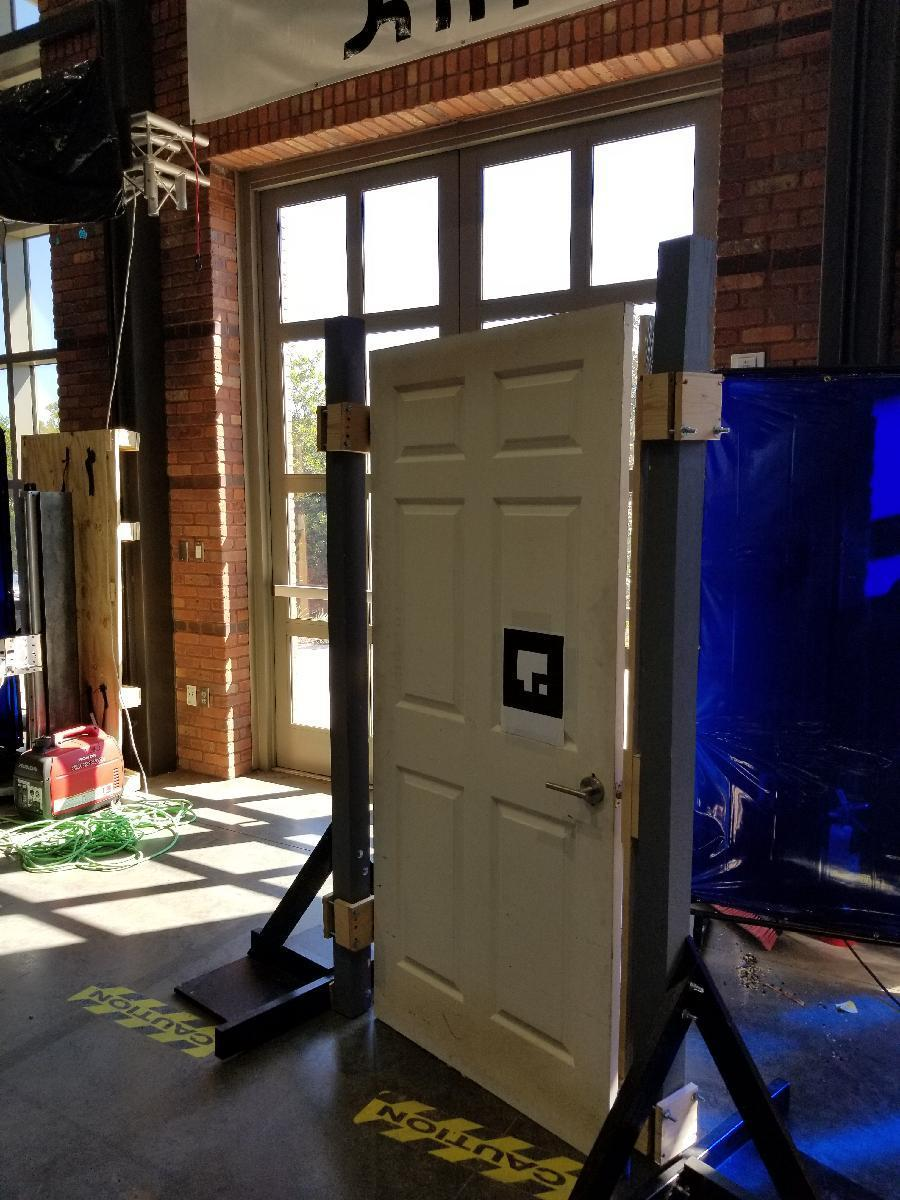door: (366, 343, 631, 1147)
handle: (541, 768, 612, 811)
